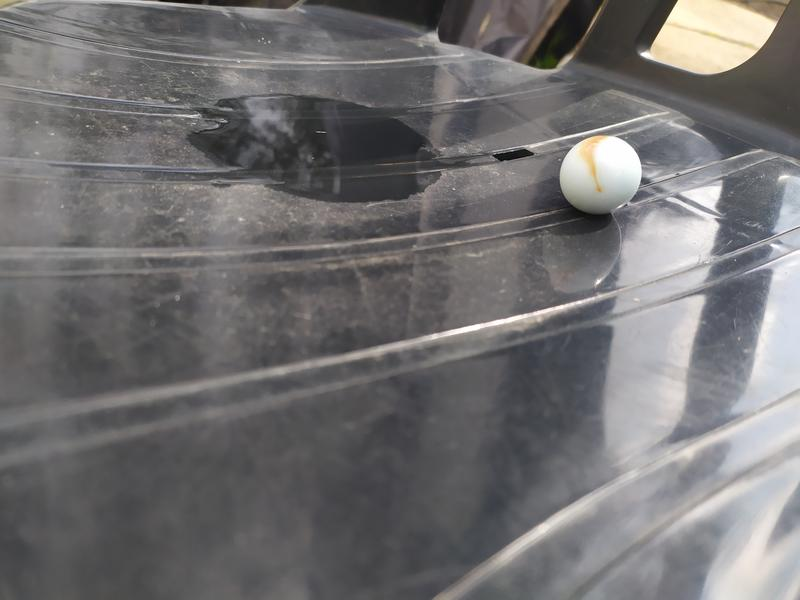Warning: (557, 132, 645, 219)
